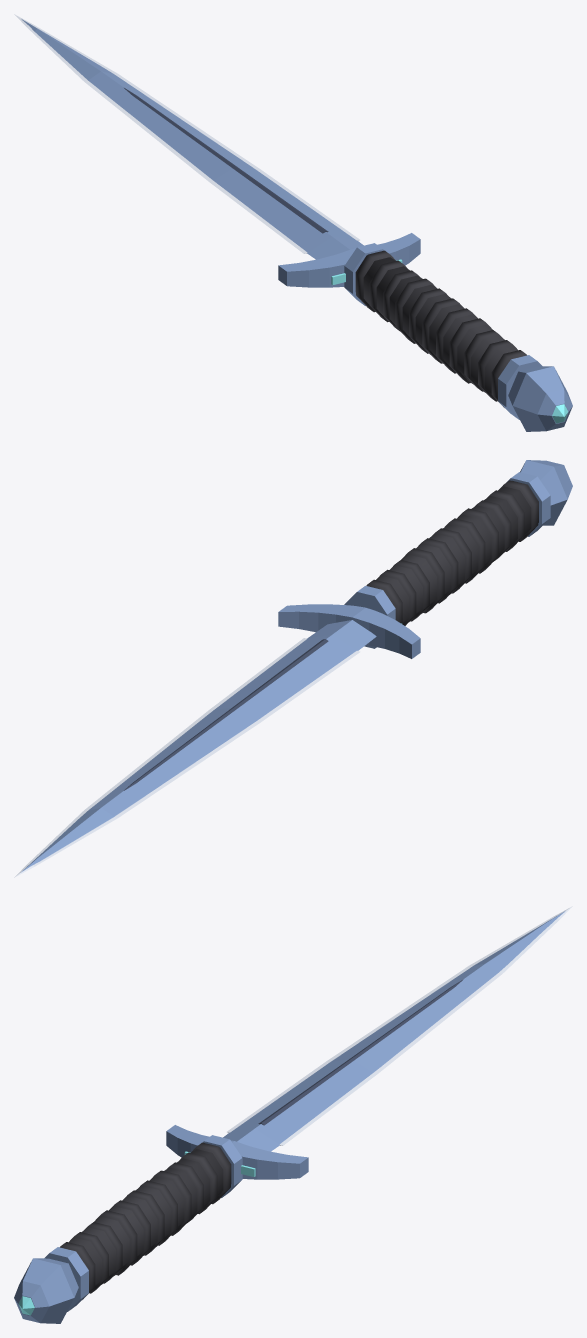
The model's file is stiletto.glb.
3 views of the same model, one above another, from view 1: azimuth 30°, elevation 25°; view 2: azimuth 150°, elevation 25°; view 3: azimuth 330°, elevation 25° (orthographic).
Visible parts, largest first — view 1: Stiletto; view 2: Stiletto; view 3: Stiletto.
Part boxes in pixels (x1,y1,x2,y2): Stiletto: (14,14,572,431); Stiletto: (14,460,572,877); Stiletto: (14,906,572,1323).
Bounding box in the file's own units: 0.046 × 0.0194 × 0.3285.
